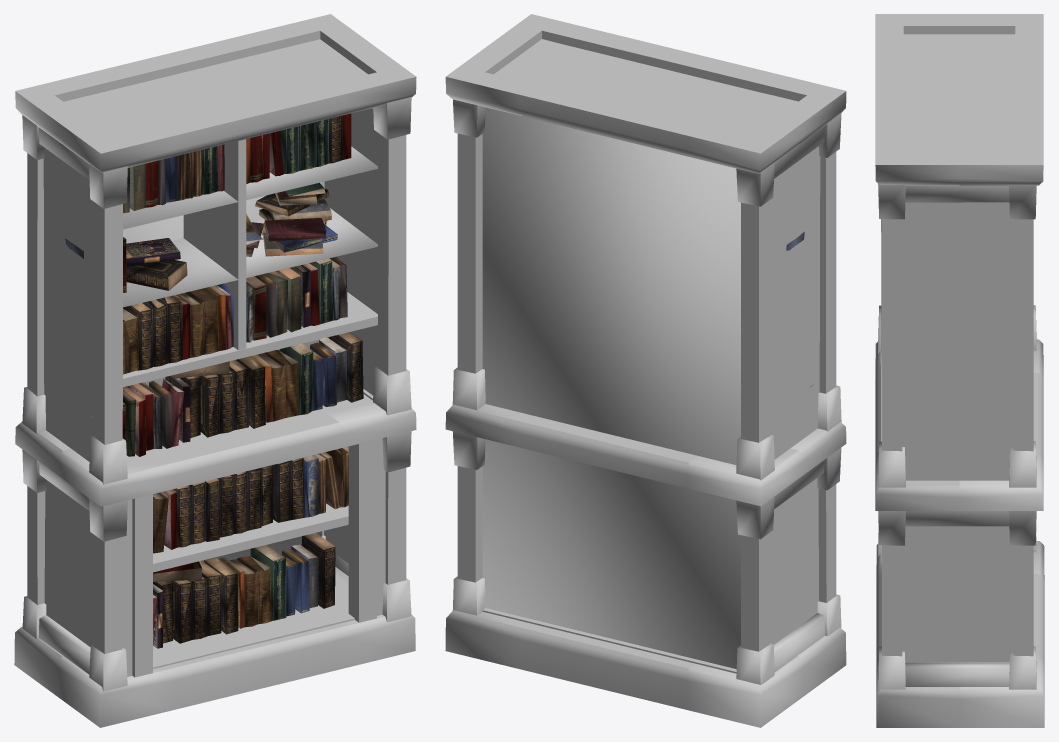
File: BookCaseMk1.fbx
3 renders of one model, left to right at view 1: azimuth 30°, elevation 25°; view 2: azimuth 150°, elevation 25°; view 3: azimuth 270°, elevation 25°, orthographic. The views are drawn at different scales.
Parts seen in each view (by area): view 1: Book_013_9; view 2: Book_013_9; view 3: Book_013_9.
Boxes of the visible parts, left/top/right/bottom form: Book_013_9: left=14, top=14, right=416, bottom=727; Book_013_9: left=445, top=14, right=846, bottom=727; Book_013_9: left=875, top=14, right=1044, bottom=727.
Size of the model in its own units: 145 by 251 by 68.35.
